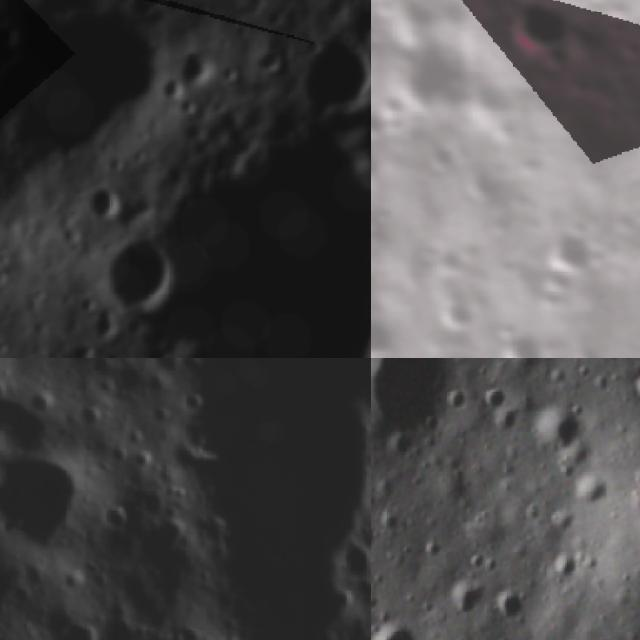crater: (371, 18, 495, 135), (0, 442, 109, 553), (374, 358, 481, 443), (488, 0, 591, 72), (101, 243, 190, 318), (290, 38, 371, 111), (531, 215, 608, 291), (431, 284, 499, 348), (448, 157, 508, 215), (413, 133, 475, 188), (535, 400, 586, 461), (488, 319, 562, 358), (371, 299, 418, 358), (444, 579, 495, 618), (612, 214, 640, 285), (333, 533, 371, 585), (495, 586, 541, 626), (540, 37, 577, 78), (182, 48, 220, 86), (90, 186, 124, 228), (558, 337, 621, 358), (371, 144, 393, 203), (371, 197, 402, 234), (552, 554, 587, 584), (179, 94, 208, 118), (264, 50, 286, 76), (154, 80, 182, 100), (627, 369, 640, 409), (79, 294, 101, 315), (225, 68, 248, 86), (36, 289, 50, 309), (0, 337, 10, 357), (1, 248, 13, 264)
